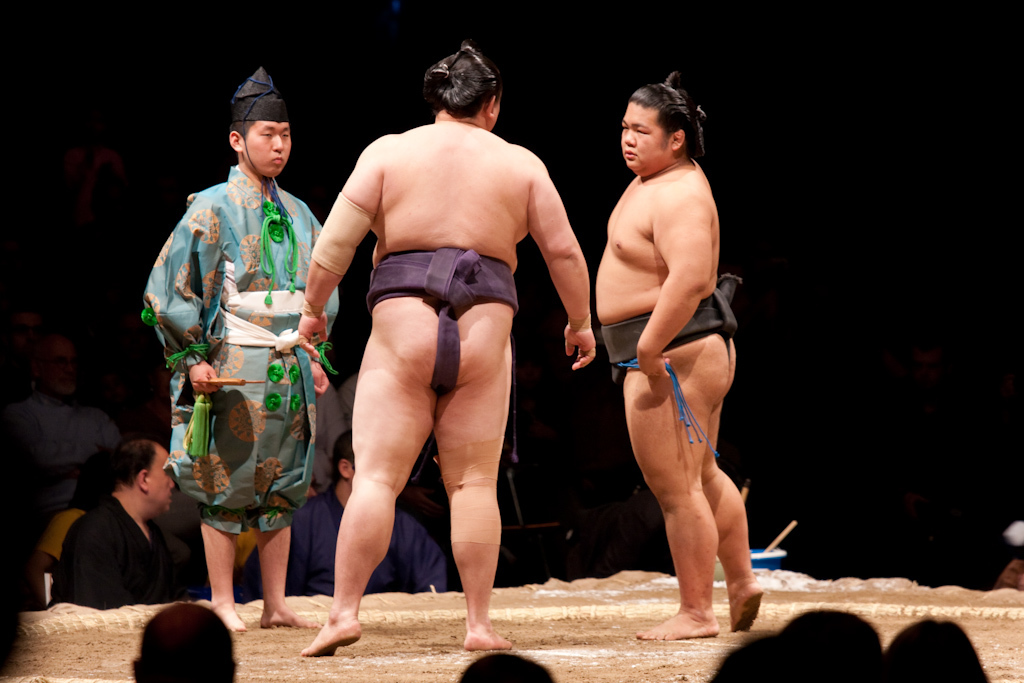Person: (0, 37, 1023, 683)
